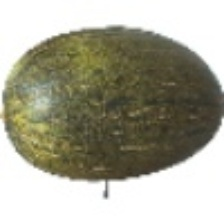honeydew: (22, 17, 162, 172)
